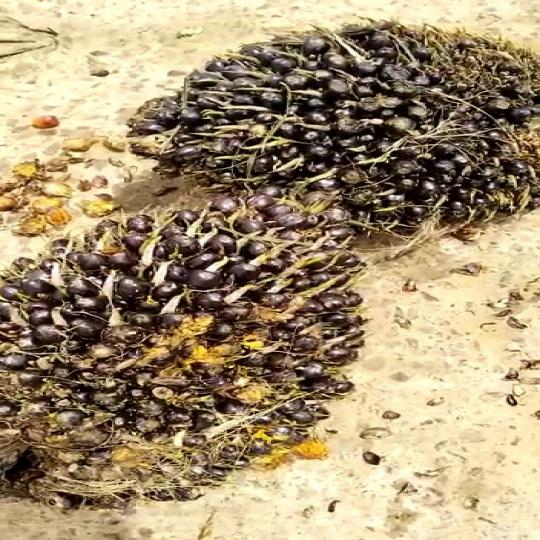mentah: (0, 179, 394, 503), (145, 19, 540, 226)
